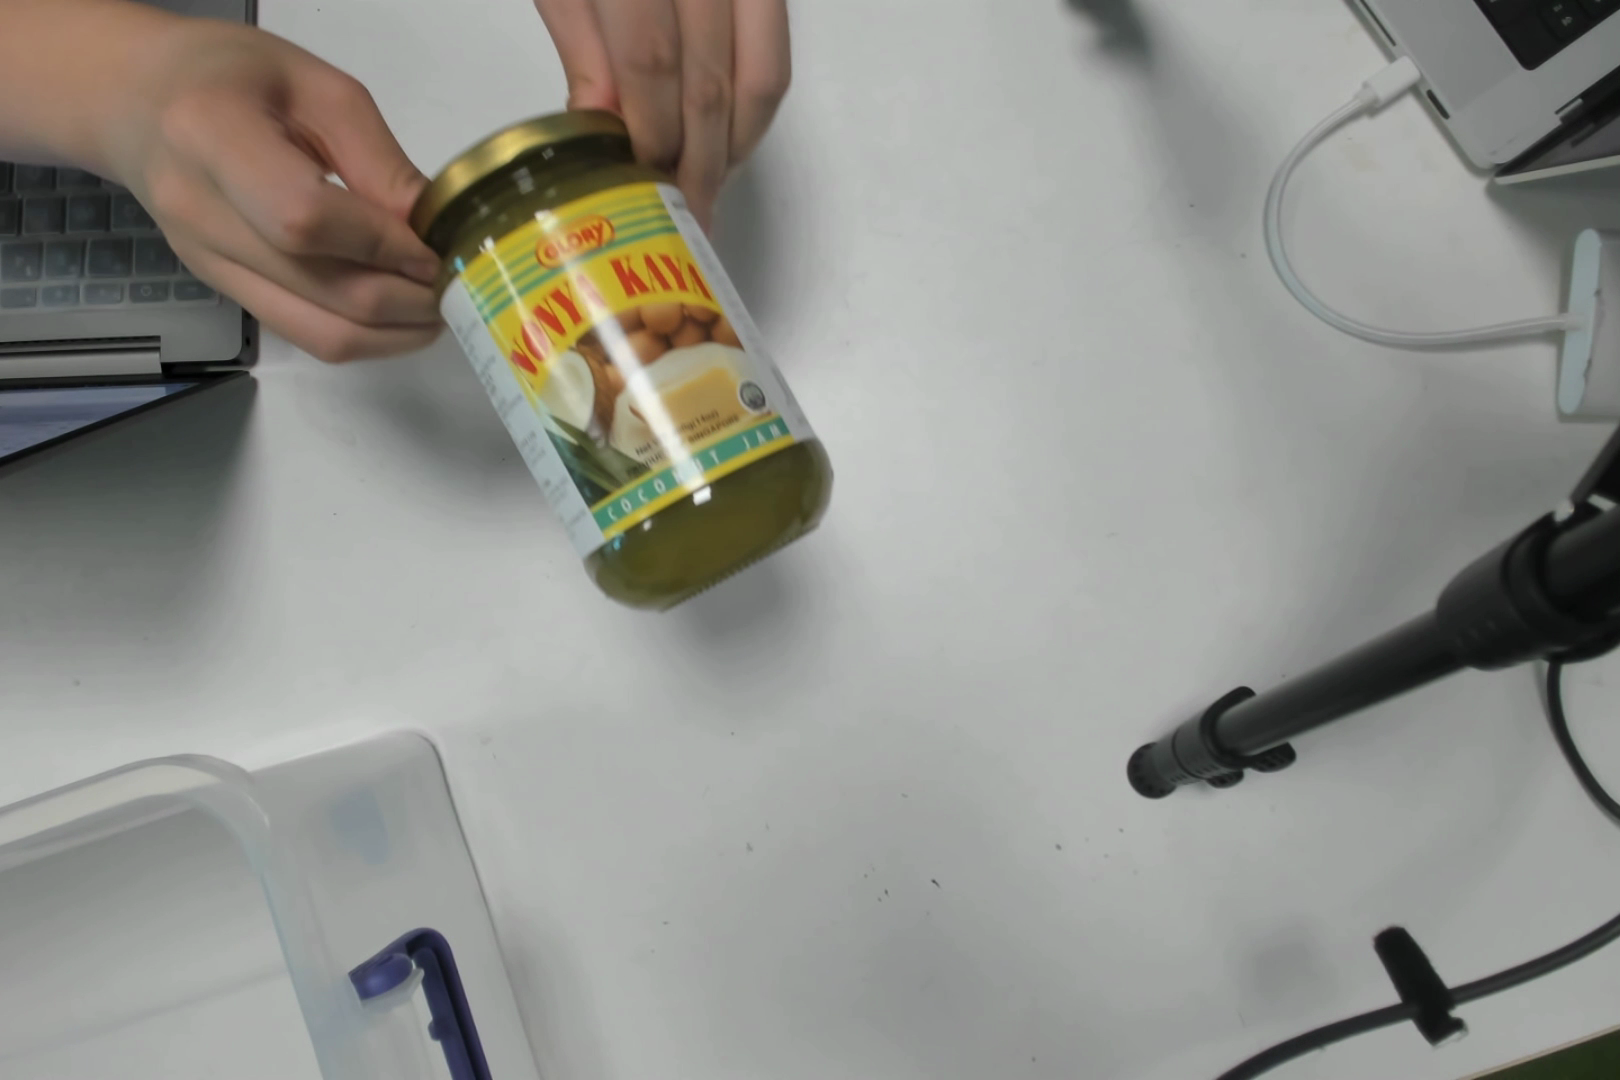Kaya_400-499g_Halal_NonHealthy: (486, 147, 781, 553)
